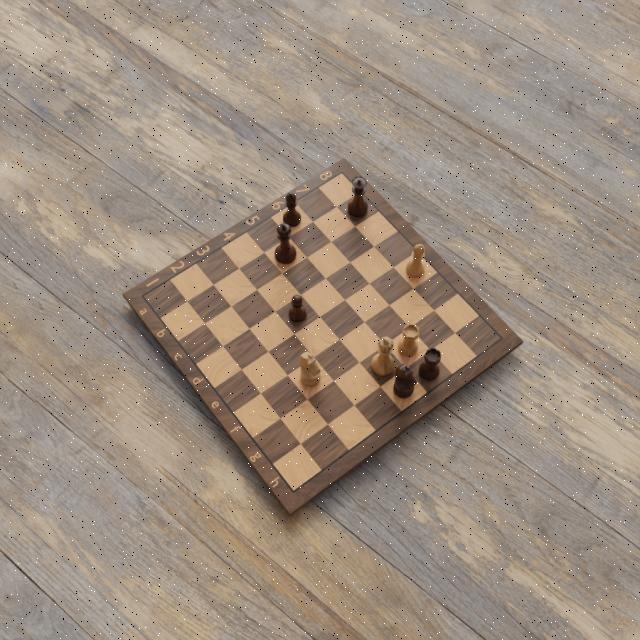black-bishop: (282, 191, 302, 228)
black-king: (275, 222, 298, 266)
black-knight: (394, 363, 418, 399)
black-pawn: (288, 293, 307, 324)
black-queen: (346, 174, 369, 218)
black-rook: (417, 346, 443, 381)
white-bishop: (406, 243, 426, 281)
white-king: (370, 336, 395, 376)
white-knight: (298, 350, 321, 388)
white-rook: (397, 323, 420, 357)
